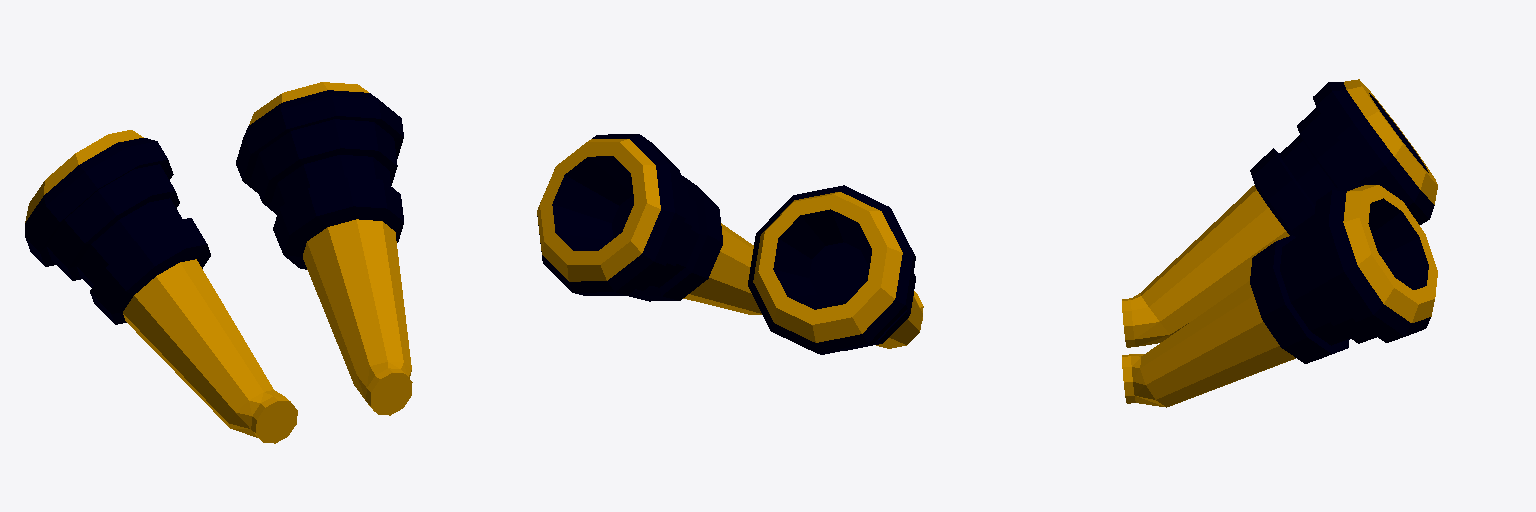
Rendered from Catalysts4.obj.
3 renders of one model, left to right at view 1: azimuth 30°, elevation 25°; view 2: azimuth 150°, elevation 25°; view 3: azimuth 270°, elevation 25°, orthographic.
Visible parts, largest first — view 1: Catalysts4_Cylinder.002; view 2: Catalysts4_Cylinder.002; view 3: Catalysts4_Cylinder.002.
Part boxes in pixels (left/top/right/bottom): Catalysts4_Cylinder.002: left=25, top=82, right=412, bottom=443; Catalysts4_Cylinder.002: left=537, top=134, right=923, bottom=354; Catalysts4_Cylinder.002: left=1122, top=79, right=1437, bottom=407.
Bounding box in the file's own units: 6.02 × 3.68 × 4.48.